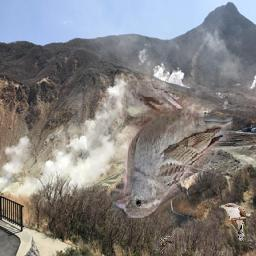Cuckoo: (220, 203, 247, 241)
Sparrow: (113, 82, 234, 219), (156, 235, 172, 252)
